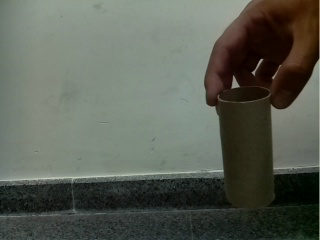rollo papel: (216, 87, 275, 210)
